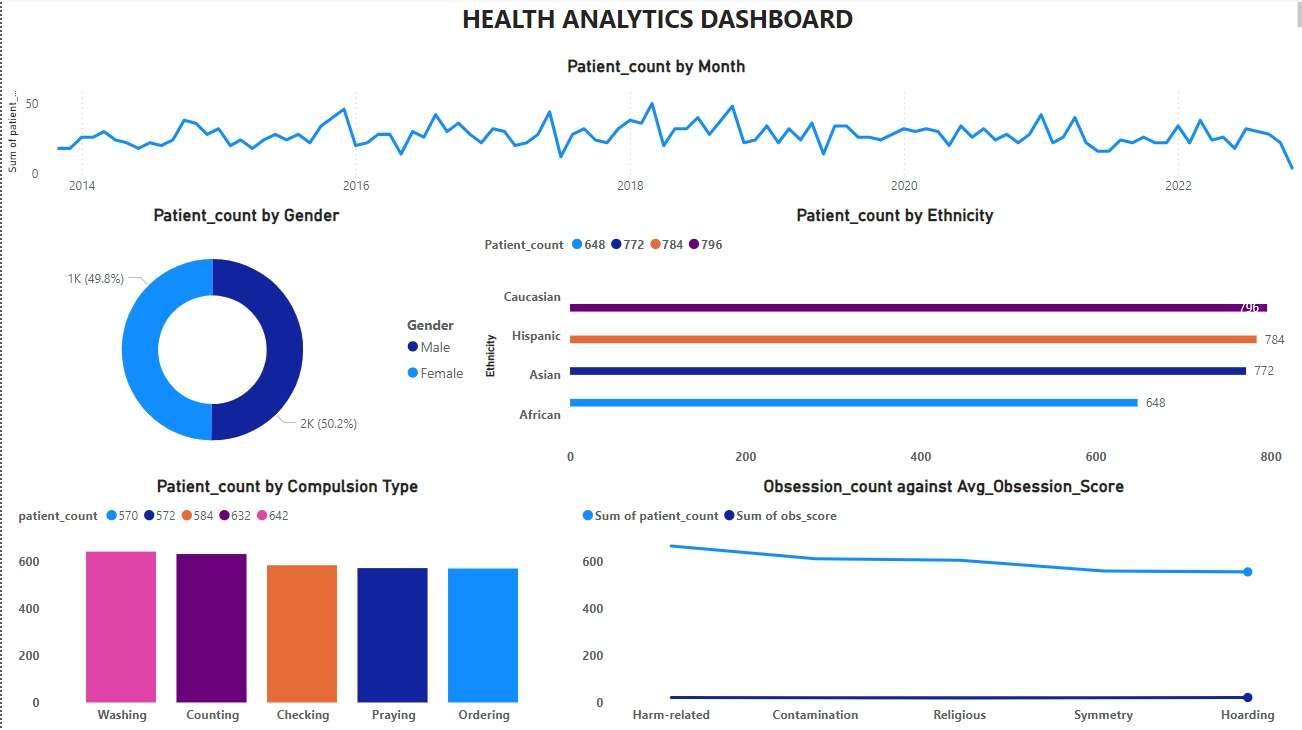

Layout of this report page (visuals, bound fields, positions):
{"tool":"powerbi","page":{"name":"Page 1","canvas":[1280,720],"ordinal":0},"visuals":[{"type":"textbox","box":[10,0,280,280],"z":0},{"type":"textbox","box":[9.8,0,1270.5,37.9],"z":1},{"type":"lineChart","title":"Patient_count by Month","fields":{"Category":["Diagnosis  MOM.month.Variation.Date Hierarchy.Year","Diagnosis  MOM.month.Variation.Date Hierarchy.Month"],"Y":["Sum(Diagnosis  MOM.patient_count)"]},"box":[0,57.5,1280.3,145.5],"z":2},{"type":"donutChart","title":"Patient_count by Gender","fields":{"Category":["Gender.Gender"],"Y":["Sum(Gender.patient_count)"]},"box":[11,203,456.1,265.4],"z":3},{"type":"clusteredBarChart","title":"Patient_count by Ethnicity","fields":{"Category":["Ethnicity.Ethnicity"],"Y":["Sum(Ethnicity.patient_count)"],"Series":["Ethnicity.patient_count"]},"box":[467.1,203,813.2,265.4],"z":4},{"type":"columnChart","title":"Patient_count by Compulsion Type ","fields":{"Category":["Compulsion_Type.Compulsion Type"],"Y":["Sum(Compulsion_Type.patient_count)"],"Series":["Compulsion_Type.patient_count"]},"box":[11,468.3,536.8,251.9],"z":5},{"type":"lineChart","title":"Obsession_count against Avg_Obsession_Score","fields":{"Category":["Obsession_Type.Obsession Type"],"Y":["Sum(Obsession_Type.patient_count)","Sum(Obsession_Type.obs_score)"]},"box":[562.5,468.3,717.8,251.9],"z":6}]}

Visuals, with their boxes in screenshot pixels (x1, y1, x2, y2), scaled from the page's 1280x720 canvas onto the 1302x730 screenshot:
textbox: 10/0/295/284
textbox: 10/0/1301/38
"Patient_count by Month" lineChart: 0/58/1301/206
"Patient_count by Gender" donutChart: 11/206/475/475
"Patient_count by Ethnicity" clusteredBarChart: 475/206/1301/475
"Patient_count by Compulsion Type " columnChart: 11/475/557/729
"Obsession_count against Avg_Obsession_Score" lineChart: 572/475/1301/729
